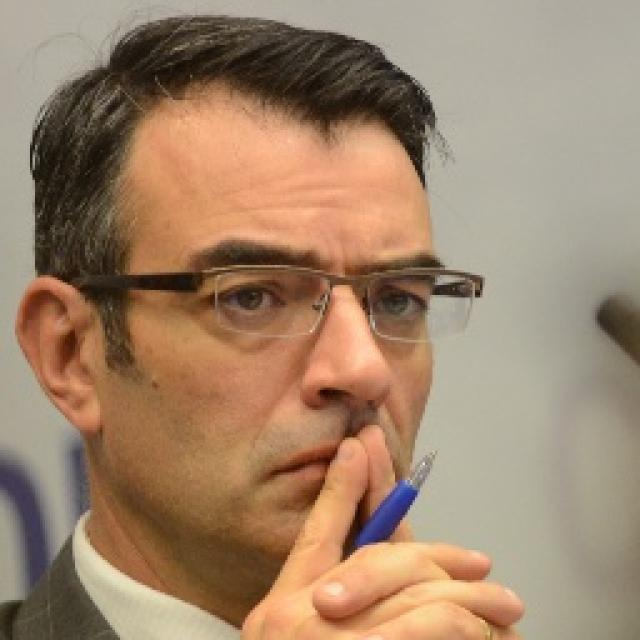earlobe: (48, 379, 103, 433)
eye: (218, 284, 286, 315), (369, 289, 431, 320)
nose: (313, 390, 386, 438)
wholeear: (13, 276, 102, 434)
